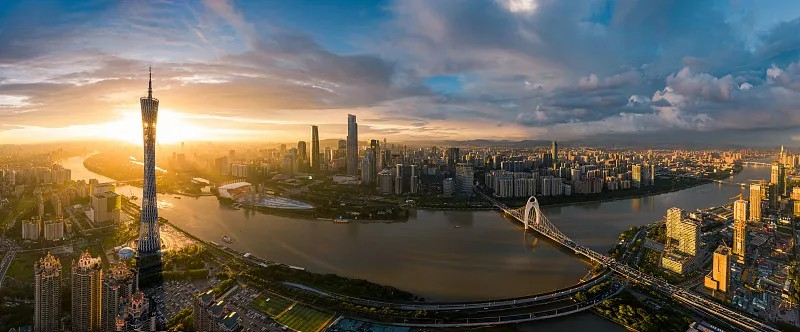Canton: (135, 65, 164, 255)
